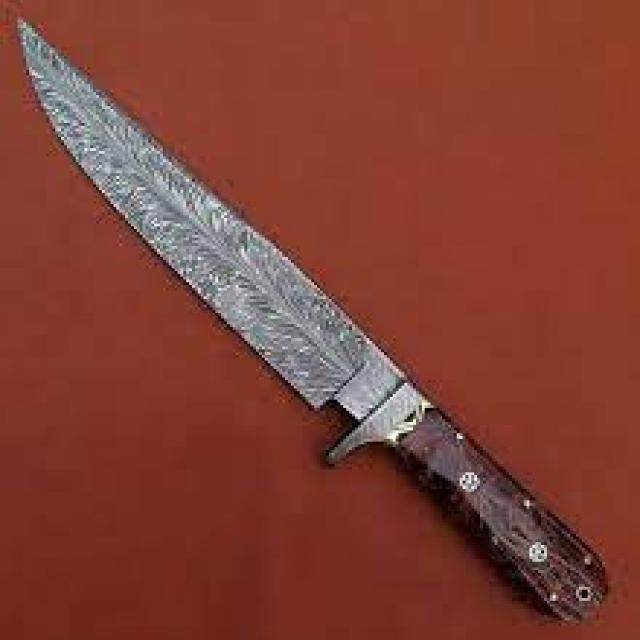short sword: (11, 7, 612, 630)
